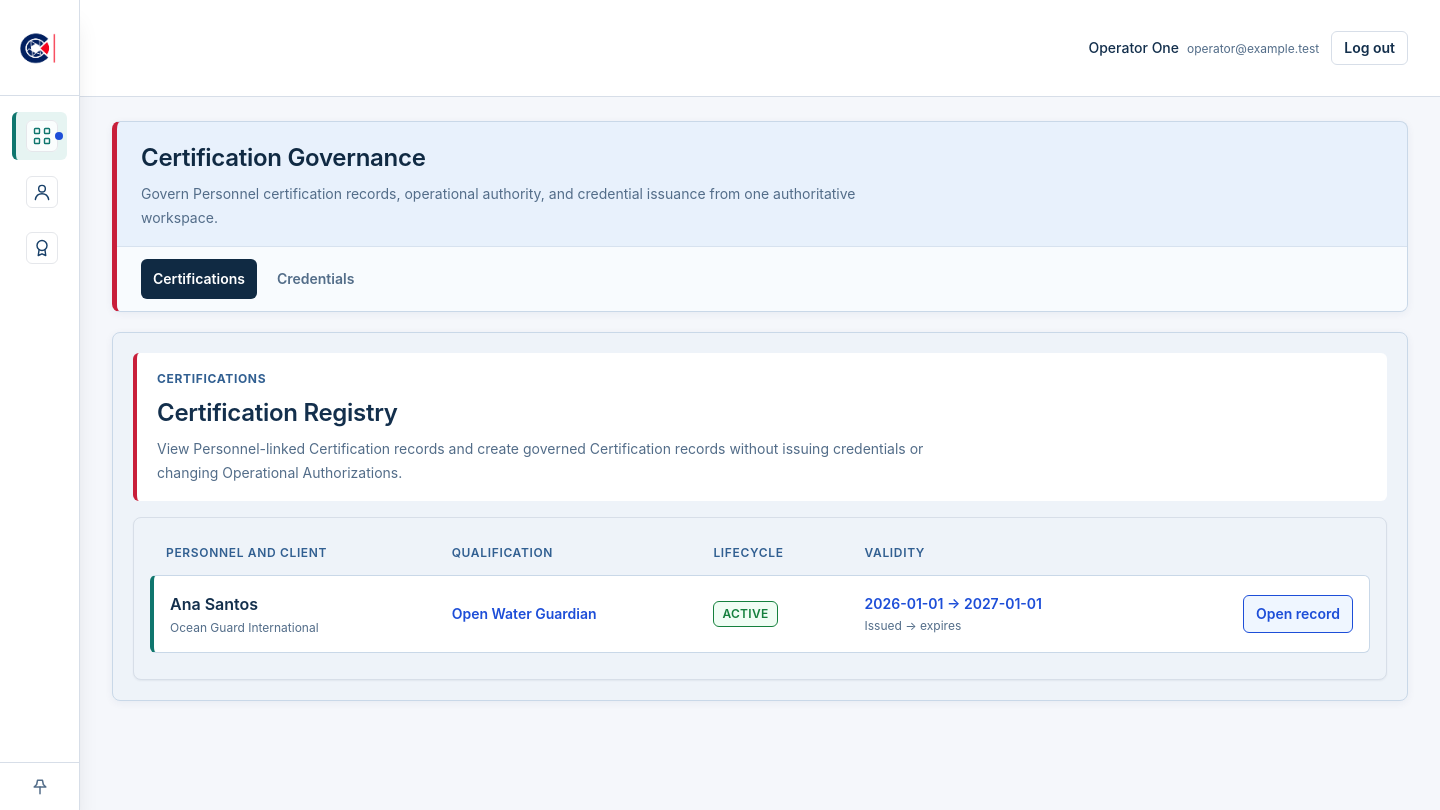
Test: Certification workspace frontend › submits the exact endorsement contract, refetches authoritative detail, and keeps the Certification selected
Click the button with aria-label "View Certificate Details": [1298, 614] box [1243,595,1353,633]
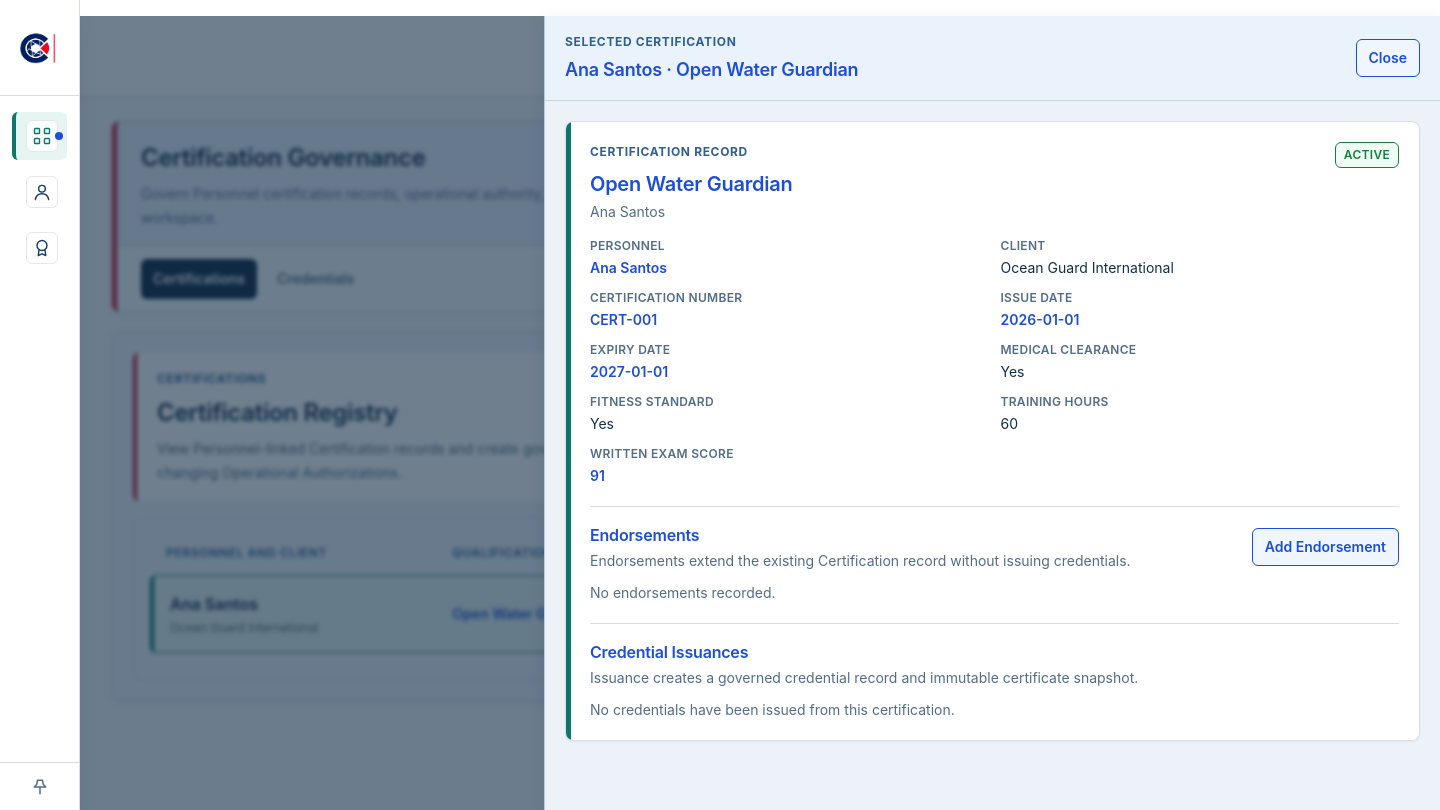
Click the button "Add Endorsement": [1325, 547] box [1252,528,1399,566]
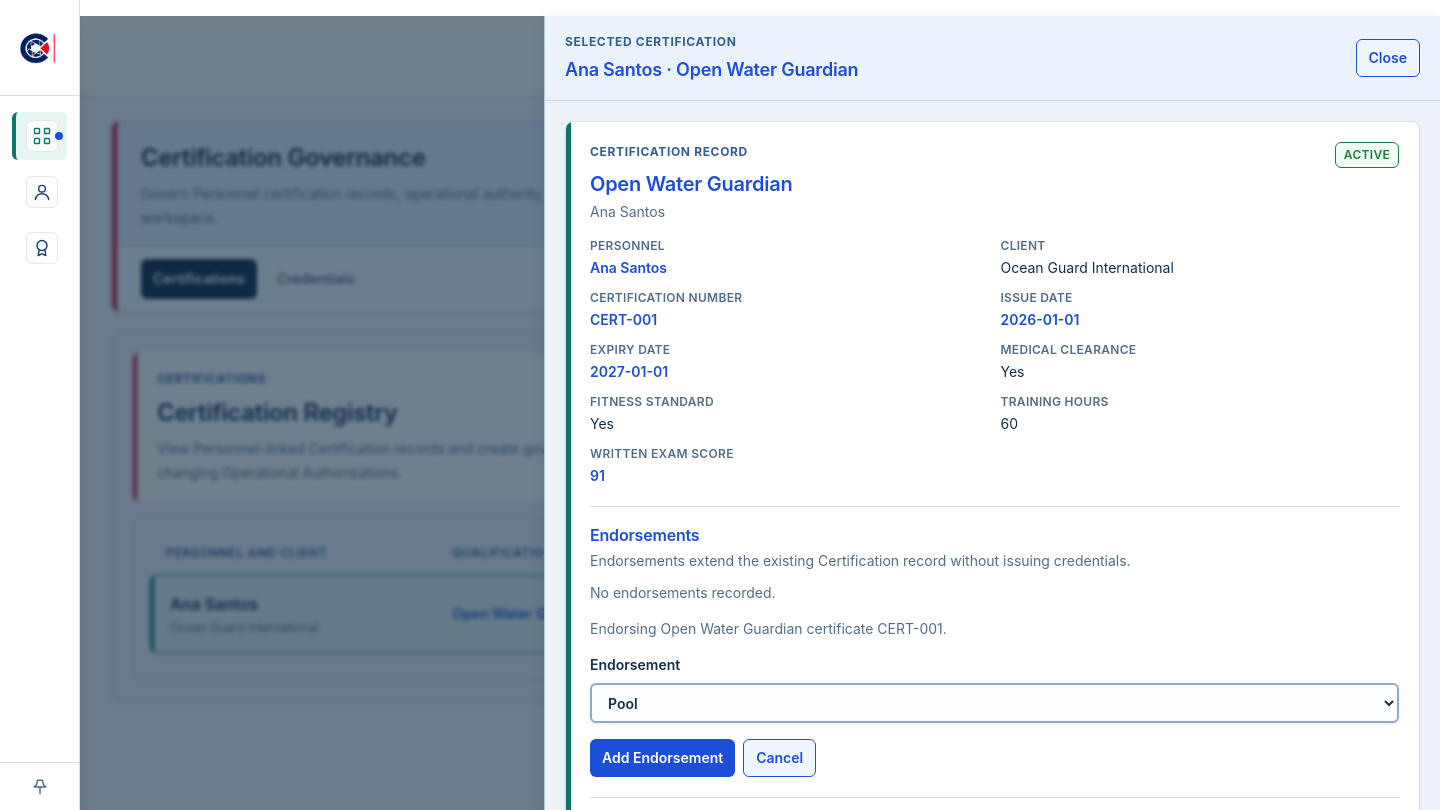
Select "Waterfront" in the dropdown labelled "Endorsement": [994, 703] box [590,683,1399,723]
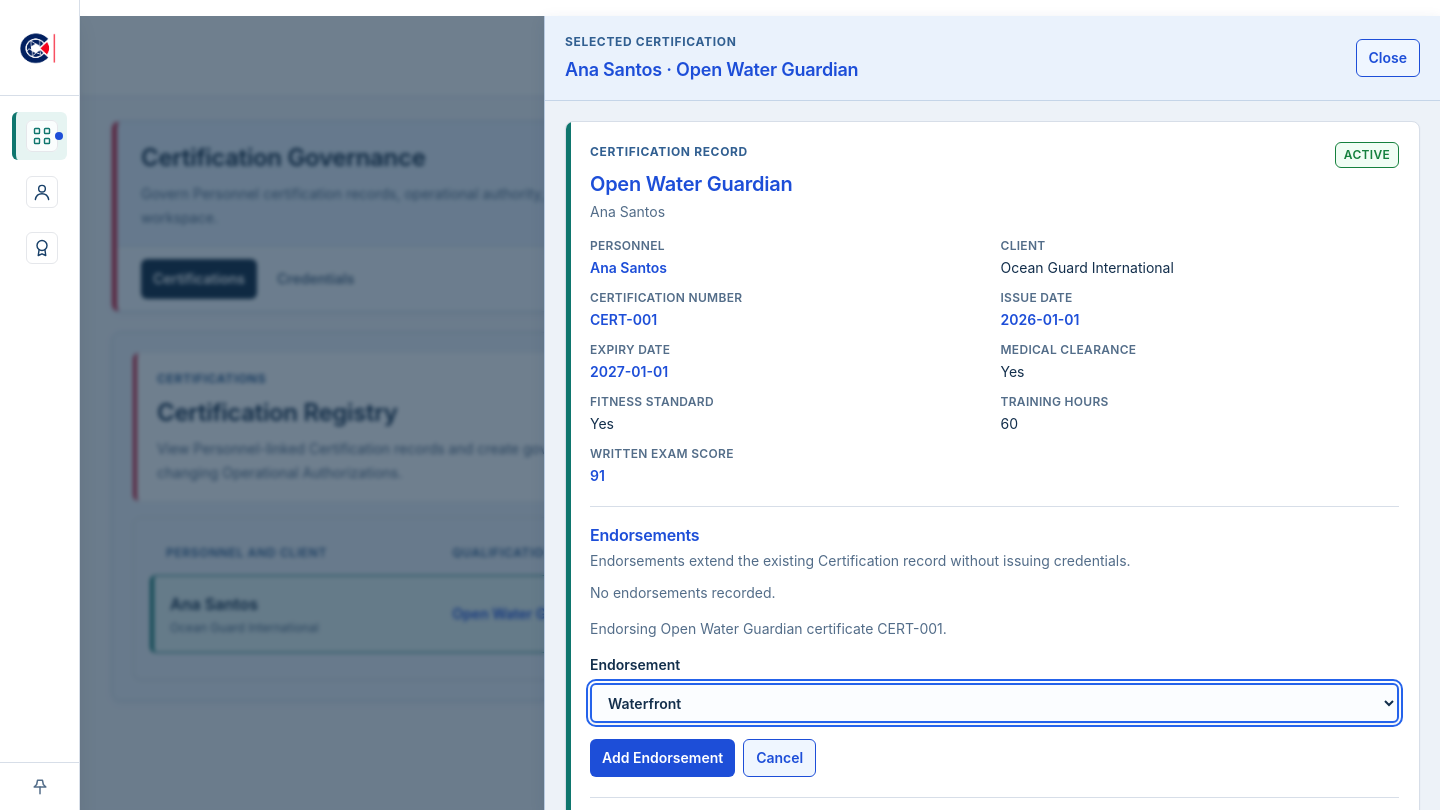
Expected: the button "Add Endorsement" is shown
Click the button "Add Endorsement": [663, 758] box [590,739,735,777]
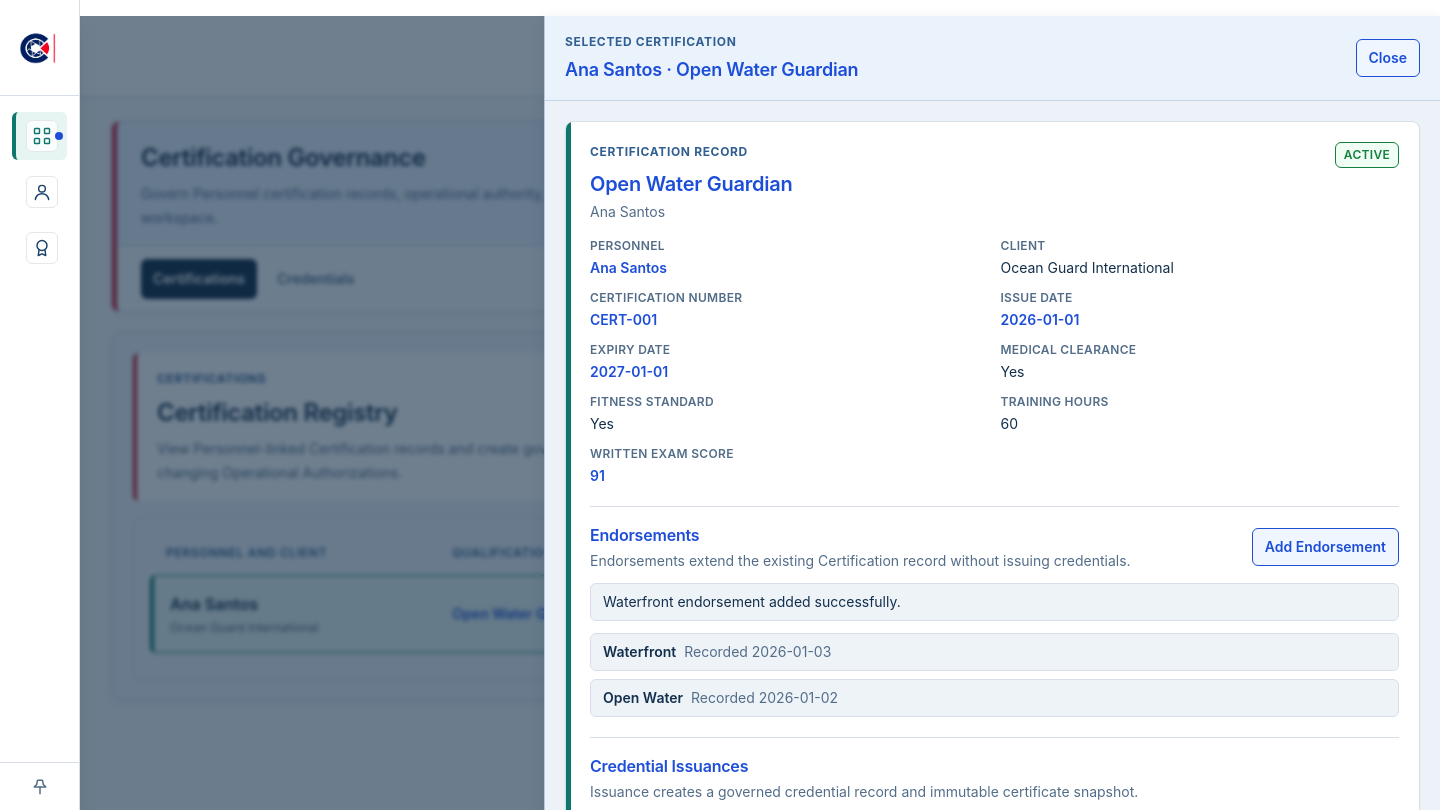
Expected: the text "CERT-001" is shown, [590,311,657,328]
Expected: the text "Waterfront endorsement added successfully." is shown, [590,583,1399,621]
Expected: the text "Waterfront" is shown, [603,643,676,660]
